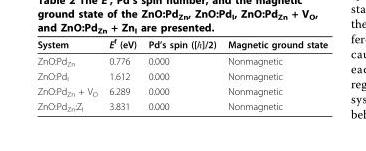table: (36, 36, 327, 112)
table column: (221, 36, 327, 112), (141, 36, 221, 112), (36, 36, 102, 112), (102, 36, 141, 112)
table column header: (36, 36, 327, 52)
table row: (36, 36, 327, 52), (36, 52, 327, 68), (36, 68, 327, 83), (36, 83, 327, 98), (36, 98, 327, 112)
